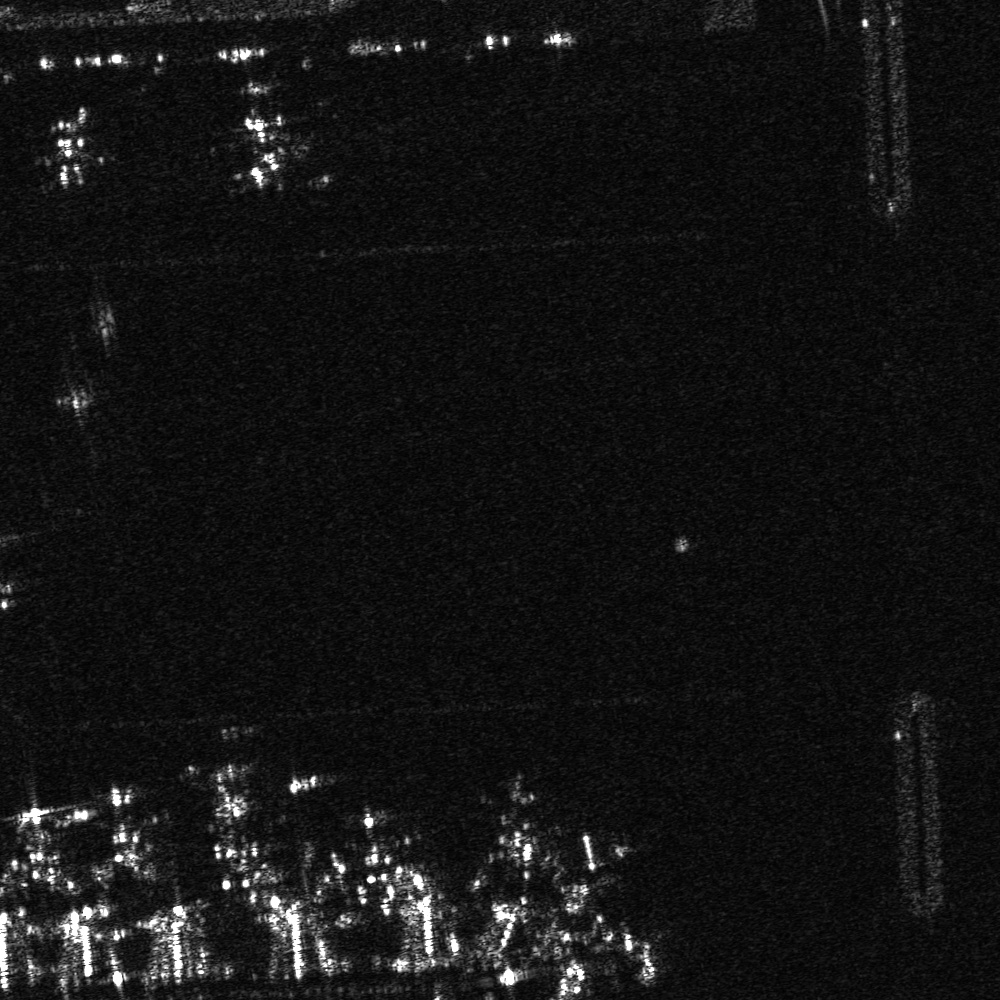A220: (4, 796, 76, 895)
A320/321: (204, 760, 280, 875), (481, 769, 550, 876), (345, 804, 408, 890)
Boeing737: (29, 108, 120, 192)
other: (220, 107, 315, 197), (95, 782, 158, 883)
